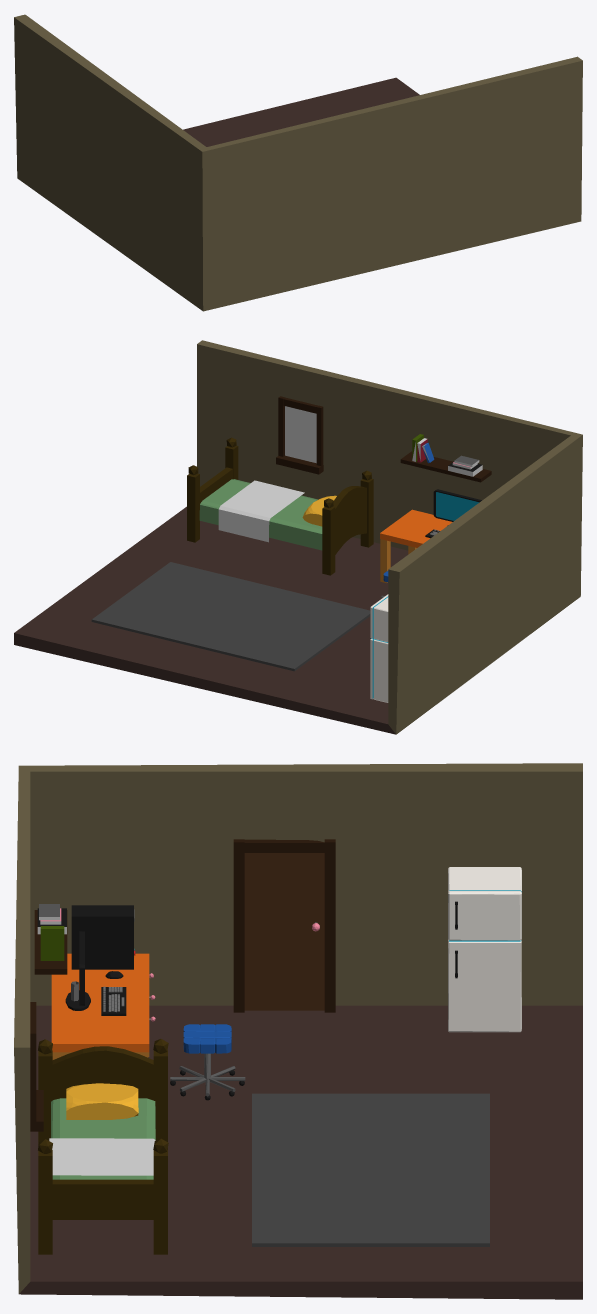
File: room_o (1).fbx
The picture shows the model from 3 angles, top to bottom: view 1: azimuth 30°, elevation 25°; view 2: azimuth 150°, elevation 25°; view 3: azimuth 270°, elevation 25°; orthographic projection. The views are drawn at different scales.
Parts seen in each view (by area): view 1: table; view 2: table; view 3: table.
Part boxes in pixels (x1=…): table: x1=14, y1=14, x2=582, y2=311; table: x1=14, y1=340, x2=582, y2=734; table: x1=14, y1=763, x2=582, y2=1299.
Bounding box in the file's own units: 1823 × 754 × 1542.
